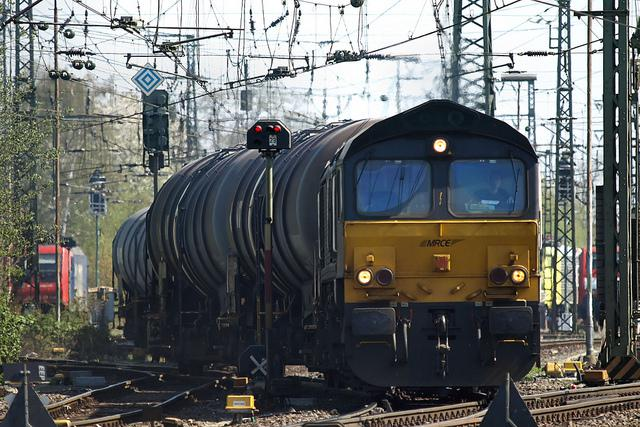Train: (115, 100, 543, 388), (40, 246, 70, 307)
